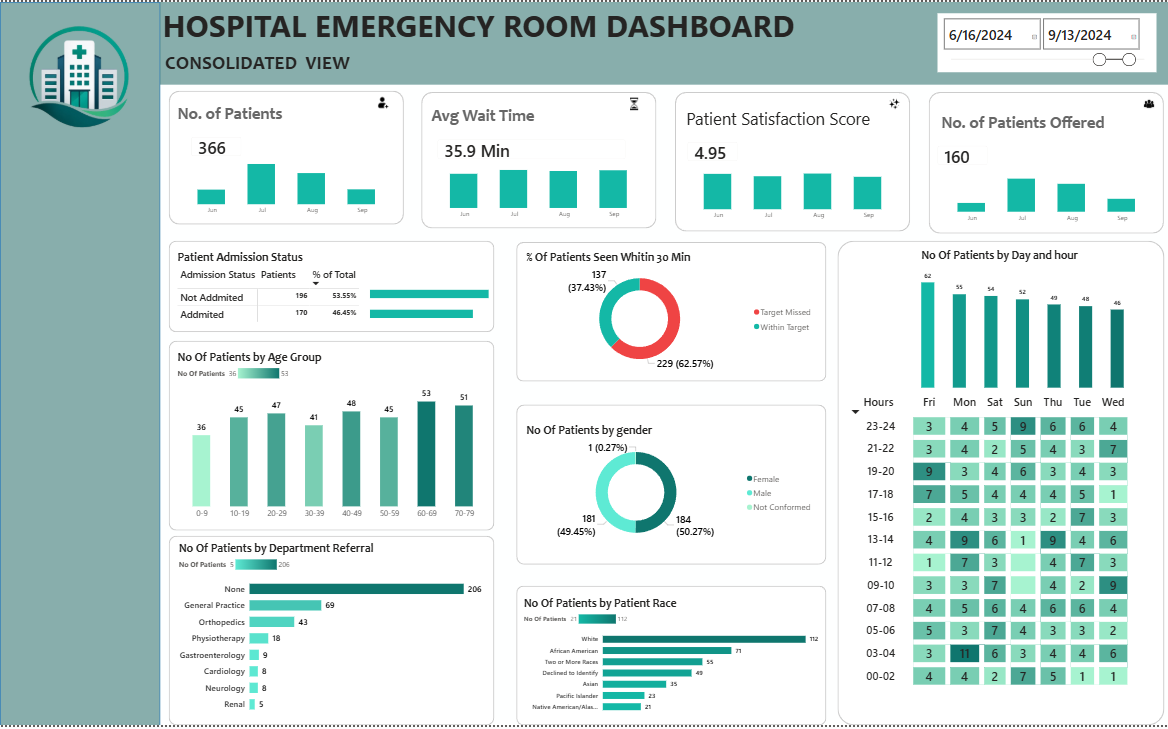

What the dashboard file says about the page in this screenshot:
{"tool":"powerbi","page":{"name":"CONSOLIDATED  VIEW","canvas":[2300,1400],"ordinal":1},"visuals":[{"type":"shape","box":[0,0,310,1400],"z":0},{"type":"shape","box":[310,0,1990,160],"z":1000},{"type":"textbox","box":[310,0,1243.8,87.5],"z":2000},{"type":"textbox","box":[313.3,90,396.7,60],"z":3000},{"type":"shape","box":[325.7,172.9,455,259],"z":4000},{"type":"cardVisual","fields":{"Data":["Hospital ER_Data - Hospital ER_Data.No Of Patients"]},"box":[353.3,245,131.7,71.7],"z":5000},{"type":"slicer","fields":{"Values":["Date Table.Date"]},"box":[1815,22.5,422.5,112.5],"z":6000},{"type":"textbox","box":[338.3,190,220,55],"z":7000},{"type":"columnChart","fields":{"Y":["Hospital ER_Data - Hospital ER_Data.No Of Patients"],"Category":["Date Table.Month Name"]},"box":[337.7,298.3,435.7,124],"z":8000},{"type":"shape","box":[816,173,455,264],"z":9000},{"type":"cardVisual","fields":{"Data":["Hospital ER_Data - Hospital ER_Data.Avg Wait Time"]},"box":[830,250,398,72],"z":10000},{"type":"textbox","box":[830,195.7,220,54.3],"z":11000},{"type":"columnChart","fields":{"Category":["Date Table.Month Name"],"Y":["Avg(Hospital ER_Data - Hospital ER_Data.Patient Waittime)"]},"box":[827.7,305.4,434.3,124],"z":12000},{"type":"shape","box":[1307,173,455,270],"z":13000},{"type":"cardVisual","fields":{"Data":["Hospital ER_Data - Hospital ER_Data.Satisfaction Score"]},"box":[1313,255,131.7,71.7],"z":14000},{"type":"textbox","box":[1324,198,386,56],"z":15000},{"type":"shape","box":[326.2,462.5,630,177],"z":16000},{"type":"columnChart","fields":{"Category":["Date Table.Month Name"],"Y":["Hospital ER_Data - Hospital ER_Data.Satisfaction Score"]},"box":[1319.1,308.3,435.7,124],"z":17000},{"type":"shape","box":[1797,173,455,274],"z":18000},{"type":"cardVisual","fields":{"Data":["Hospital ER_Data - Hospital ER_Data.No of Patient Reffered"]},"box":[1797.6,260.7,131.7,71.7],"z":19000},{"type":"textbox","box":[1817.5,207.5,386.2,73.8],"z":20000},{"type":"columnChart","fields":{"Category":["Date Table.Month Name"],"Y":["Hospital ER_Data - Hospital ER_Data.No of Patient Reffered"]},"box":[1809.1,312.6,435.7,124],"z":21000},{"type":"pivotTable","title":"Patient Admission Status","fields":{"Rows":["Hospital ER_Data - Hospital ER_Data.Admission Status"],"Values":["Hospital ER_Data - Hospital ER_Data.No Of Patients1","Hospital ER_Data - Hospital ER_Data.No Of Patients"]},"box":[338.3,480,593.3,145],"z":22000},{"type":"barChart","fields":{"Category":["Hospital ER_Data - Hospital ER_Data.Admission Status"],"Y":["Hospital ER_Data - Hospital ER_Data.No Of Patients"]},"box":[711.4,525.7,244.3,114.3],"z":23000},{"type":"shape","box":[327.5,655,630,367.5],"z":24000},{"type":"clusteredColumnChart","fields":{"Category":["Hospital ER_Data - Hospital ER_Data.Age Group"],"Y":["Hospital ER_Data - Hospital ER_Data.No Of Patients"]},"box":[337.5,672.5,612.5,337.5],"z":25000},{"type":"shape","box":[326,1033,630,367],"z":26000},{"type":"clusteredBarChart","fields":{"Category":["Hospital ER_Data - Hospital ER_Data.Department Referral"],"Y":["Hospital ER_Data - Hospital ER_Data.No Of Patients"]},"box":[340,1043.3,600,345],"z":27000},{"type":"shape","box":[998.3,463.3,600,270],"z":28000},{"type":"donutChart","title":"% Of Patients Seen Whitin 30 Min","fields":{"Category":["Hospital ER_Data - Hospital ER_Data.Waittime Status"],"Y":["Hospital ER_Data - Hospital ER_Data.No Of Patients"]},"box":[1013.3,480,570,240],"z":29000},{"type":"shape","box":[998,778,600,310],"z":30000},{"type":"donutChart","title":"No Of Patients by gender","fields":{"Y":["Hospital ER_Data - Hospital ER_Data.No Of Patients"],"Category":["Hospital ER_Data - Hospital ER_Data.Patient Gender"]},"box":[1014,816,570,240],"z":31000},{"type":"shape","box":[998,1130,600,270],"z":32000},{"type":"clusteredBarChart","fields":{"Y":["Hospital ER_Data - Hospital ER_Data.No Of Patients"],"Category":["Hospital ER_Data - Hospital ER_Data.Patient Race"]},"box":[1008,1148,580,236],"z":33000},{"type":"shape","box":[1620,462.5,632.5,937.5],"z":34000},{"type":"pivotTable","fields":{"Rows":["Hospital ER_Data - Hospital ER_Data.Waittime Interval"],"Columns":["Date Table.Day Name"],"Values":["Hospital ER_Data - Hospital ER_Data.No Of Patients"]},"box":[1637.5,752.5,600,605],"z":35000},{"type":"columnChart","title":"No Of Patients by Day and hour","fields":{"Category":["Date Table.Day Name"],"Y":["Hospital ER_Data - Hospital ER_Data.No Of Patients"]},"box":[1778,476,404,276],"z":36000},{"type":"image","box":[22.5,0,262.5,290],"z":37000},{"type":"image","box":[722,182,40,26],"z":38000},{"type":"image","box":[1208,183,40,26],"z":39000},{"type":"image","box":[1710,183,40,26],"z":40000},{"type":"image","box":[2204,185,40,26],"z":41000}]}

Visuals, with their boxes in screenshot pixels (x1, y1, x2, y2), scaled from the page's 2300x1400 canvas onto the 1168x729 screenshot:
shape: <bbox>0, 0, 157, 728</bbox>
shape: <bbox>157, 0, 1167, 83</bbox>
textbox: <bbox>157, 0, 789, 46</bbox>
textbox: <bbox>159, 47, 361, 78</bbox>
shape: <bbox>165, 90, 396, 225</bbox>
cardVisual - Hospital ER_Data - Hospital ER_Data.No Of Patients: <bbox>179, 128, 246, 165</bbox>
slicer - Date Table.Date: <bbox>922, 12, 1136, 70</bbox>
textbox: <bbox>172, 99, 284, 128</bbox>
columnChart - Hospital ER_Data - Hospital ER_Data.No Of Patients x Date Table.Month Name: <bbox>171, 155, 393, 220</bbox>
shape: <bbox>414, 90, 645, 228</bbox>
cardVisual - Hospital ER_Data - Hospital ER_Data.Avg Wait Time: <bbox>421, 130, 624, 168</bbox>
textbox: <bbox>421, 102, 533, 130</bbox>
columnChart - Date Table.Month Name x Avg(Hospital ER_Data - Hospital ER_Data.Patient Waittime): <bbox>420, 159, 641, 224</bbox>
shape: <bbox>664, 90, 895, 231</bbox>
cardVisual - Hospital ER_Data - Hospital ER_Data.Satisfaction Score: <bbox>667, 133, 734, 170</bbox>
textbox: <bbox>672, 103, 868, 132</bbox>
shape: <bbox>166, 241, 486, 333</bbox>
columnChart - Date Table.Month Name x Hospital ER_Data - Hospital ER_Data.Satisfaction Score: <bbox>670, 161, 891, 225</bbox>
shape: <bbox>913, 90, 1144, 233</bbox>
cardVisual - Hospital ER_Data - Hospital ER_Data.No of Patient Reffered: <bbox>913, 136, 980, 173</bbox>
textbox: <bbox>923, 108, 1119, 146</bbox>
columnChart - Date Table.Month Name x Hospital ER_Data - Hospital ER_Data.No of Patient Reffered: <bbox>919, 163, 1140, 227</bbox>
"Patient Admission Status" pivotTable: <bbox>172, 250, 473, 325</bbox>
barChart - Hospital ER_Data - Hospital ER_Data.Admission Status x Hospital ER_Data - Hospital ER_Data.No Of Patients: <bbox>361, 274, 485, 333</bbox>
shape: <bbox>166, 341, 486, 532</bbox>
clusteredColumnChart - Hospital ER_Data - Hospital ER_Data.Age Group x Hospital ER_Data - Hospital ER_Data.No Of Patients: <bbox>171, 350, 482, 526</bbox>
shape: <bbox>166, 538, 485, 728</bbox>
clusteredBarChart - Hospital ER_Data - Hospital ER_Data.Department Referral x Hospital ER_Data - Hospital ER_Data.No Of Patients: <bbox>173, 543, 477, 723</bbox>
shape: <bbox>507, 241, 812, 382</bbox>
"% Of Patients Seen Whitin 30 Min" donutChart: <bbox>515, 250, 804, 375</bbox>
shape: <bbox>507, 405, 812, 567</bbox>
"No Of Patients by gender" donutChart: <bbox>515, 425, 804, 550</bbox>
shape: <bbox>507, 588, 812, 728</bbox>
clusteredBarChart - Hospital ER_Data - Hospital ER_Data.No Of Patients x Hospital ER_Data - Hospital ER_Data.Patient Race: <bbox>512, 598, 806, 721</bbox>
shape: <bbox>823, 241, 1144, 728</bbox>
pivotTable - Hospital ER_Data - Hospital ER_Data.Waittime Interval x Date Table.Day Name: <bbox>832, 392, 1136, 707</bbox>
"No Of Patients by Day and hour" columnChart: <bbox>903, 248, 1108, 392</bbox>
image: <bbox>11, 0, 145, 151</bbox>
image: <bbox>367, 95, 387, 108</bbox>
image: <bbox>613, 95, 634, 109</bbox>
image: <bbox>868, 95, 889, 109</bbox>
image: <bbox>1119, 96, 1140, 110</bbox>
